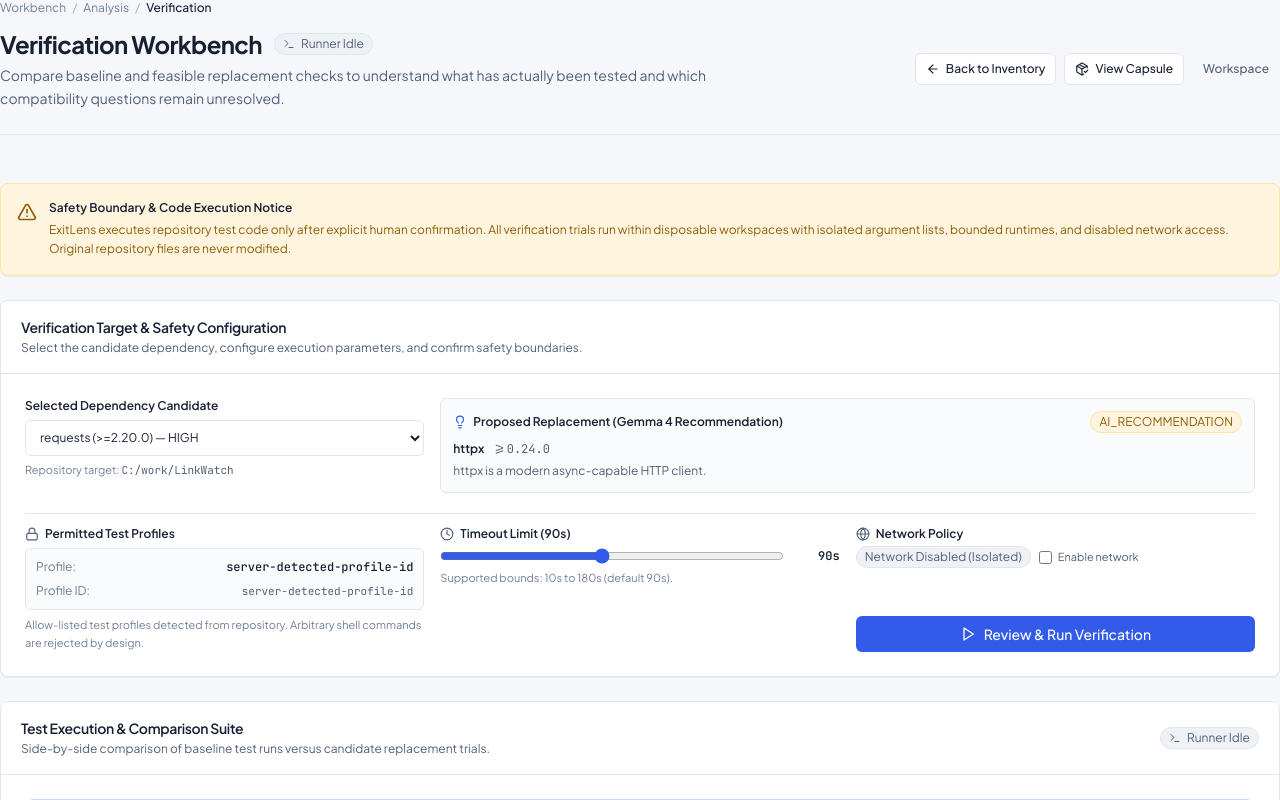
Test: VerificationPage — dependency selected & safety approval flow › requires human approval before submitting verification
Expected: the text "httpx" is shown, [453,440,484,456]
Click the button "Review & Run Verification". click: (1055, 634)
box: [856,616,1255,652]
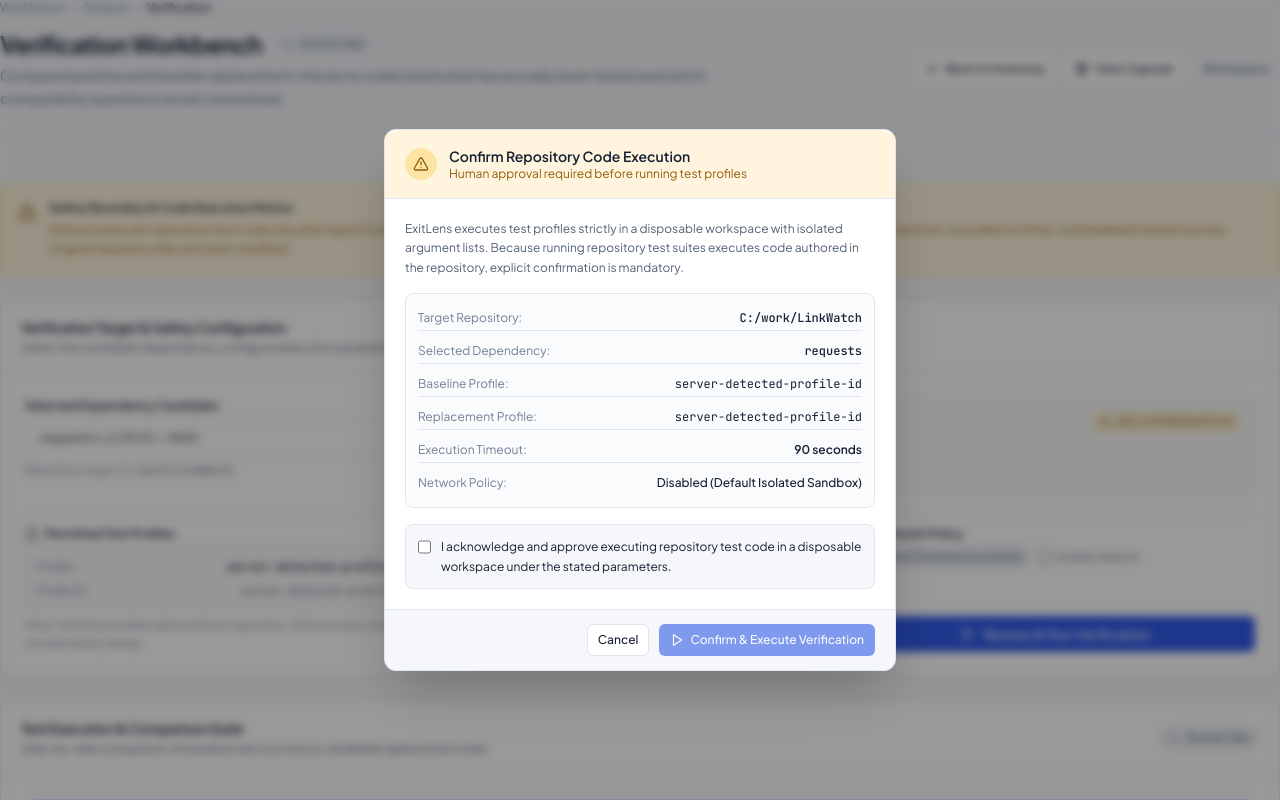
Now the heading "Confirm Repository Code Execution" is shown, box [449,147,690,165]
Now the button "Confirm & Execute Verification" is disabled, box [659,624,875,656]
Check confirmation checkbox
Click the checkbox labelled "I acknowledge and approve executing repository test code". click: (424, 547)
box: [418,539,431,555]
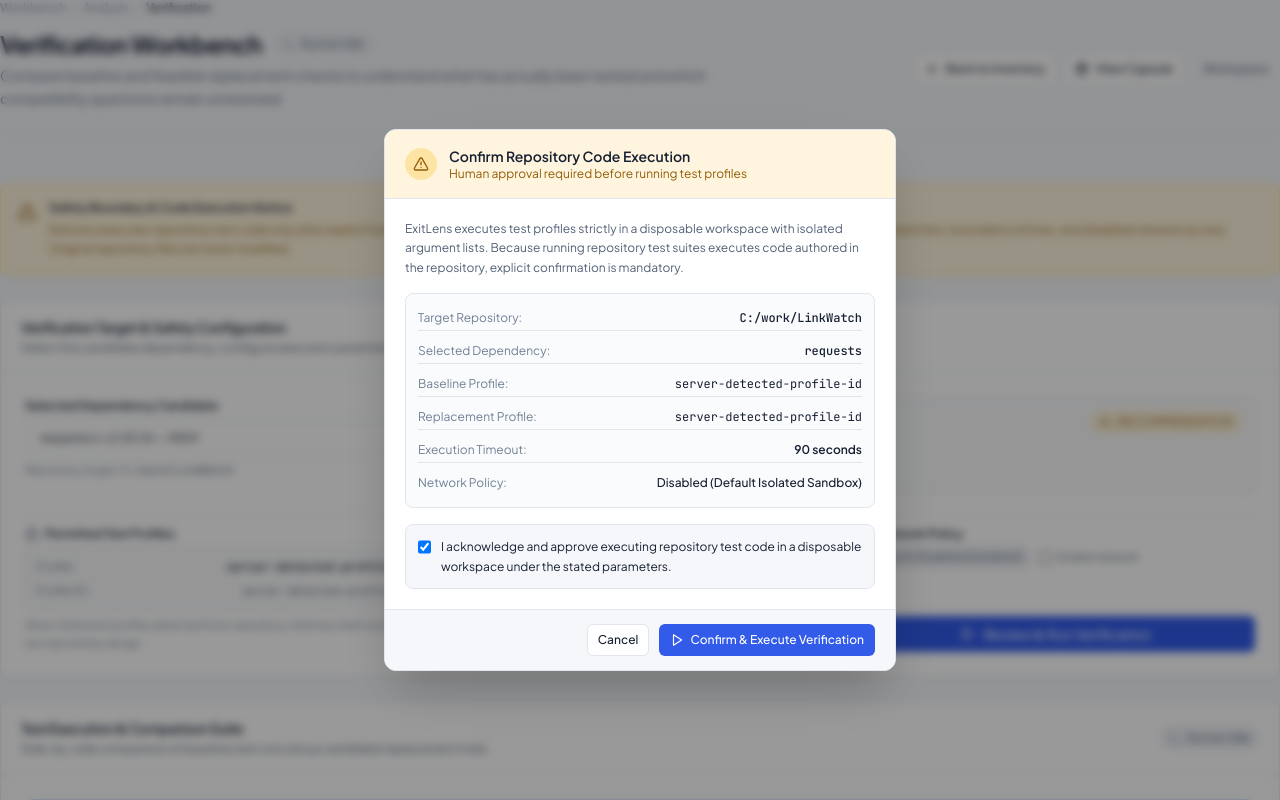
Now the button "Confirm & Execute Verification" is enabled, box [659,624,875,656]
